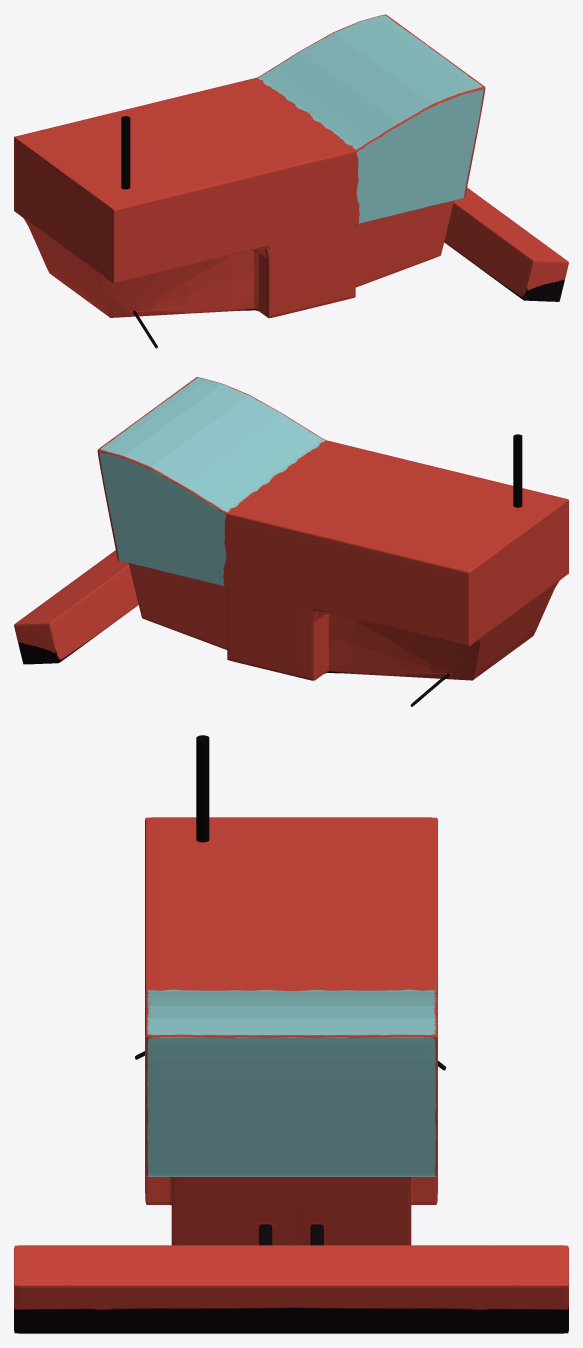
Rendered from combine-body.glb.
3 views of the same model, one above another, from view 1: azimuth 30°, elevation 25°; view 2: azimuth 150°, elevation 25°; view 3: azimuth 270°, elevation 25° (orthographic). The views are drawn at different scales.
Visible parts, largest first — view 1: Cube, Cylinder; view 2: Cube, Cylinder; view 3: Cube, Cylinder.
Part boxes in pixels (left/top/right/bottom): Cube: left=14, top=14, right=568, bottom=348; Cylinder: left=121, top=116, right=130, bottom=189; Cube: left=14, top=377, right=568, bottom=706; Cylinder: left=513, top=434, right=522, bottom=507; Cube: left=14, top=817, right=568, bottom=1333; Cylinder: left=196, top=735, right=209, bottom=842.
Size of the model in its own units: 10.49 by 5.54 by 8.39.
Materials: 2 (2 with a texture image).
